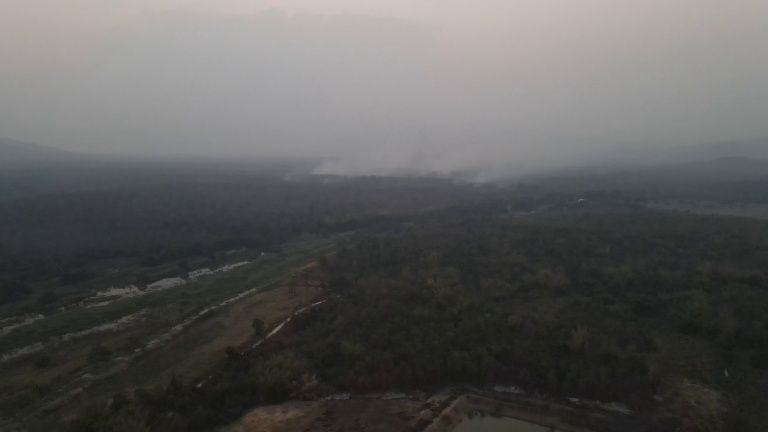smoke: (300, 112, 533, 192)
